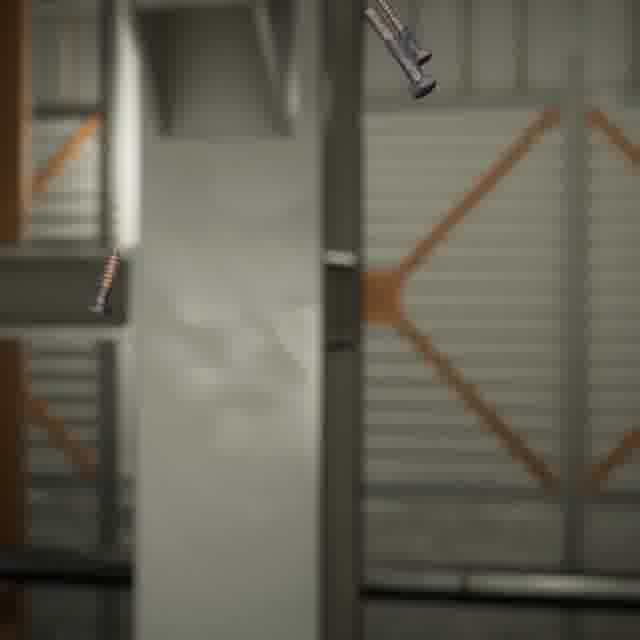bolt: (359, 1, 441, 103), (370, 0, 436, 71), (82, 242, 126, 319)
